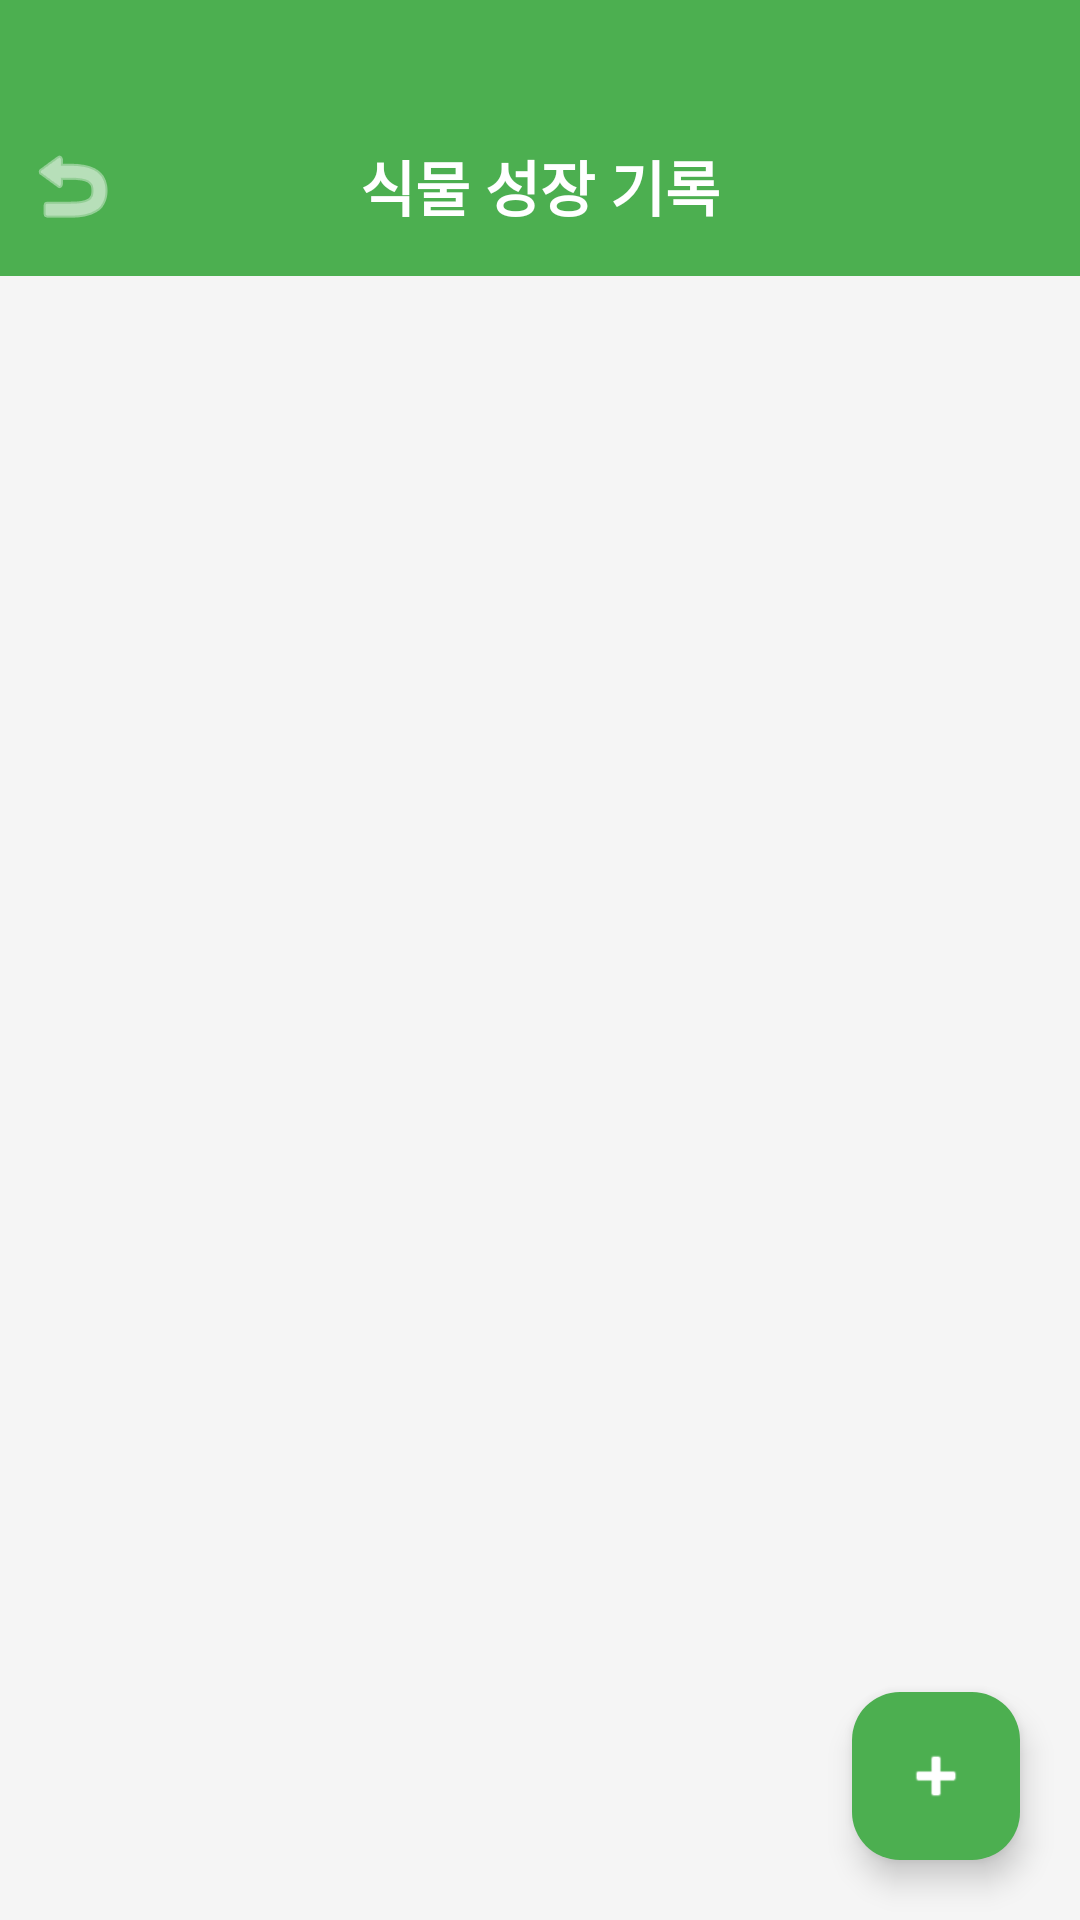

Icon click points for this 1080 × 1920 phone screenshot, format [x,y]:
add: [936,1776]
revert: [73,186]
